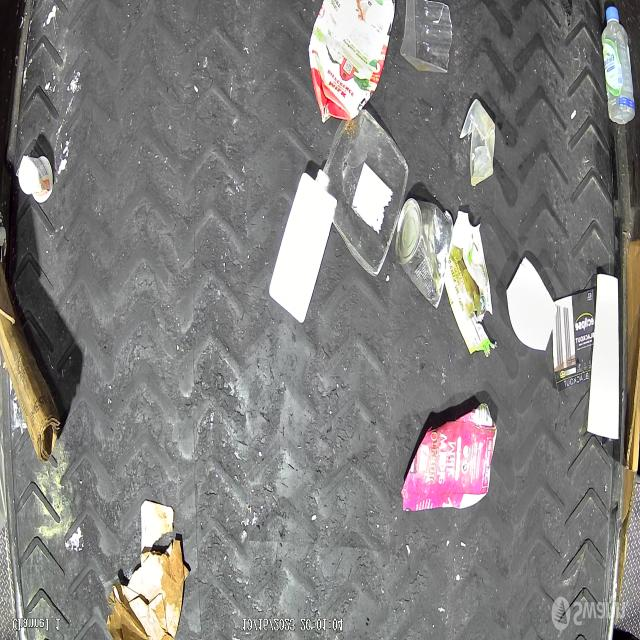can: (395, 199, 454, 309)
milk_jug: (268, 165, 340, 322)
non_white_jug: (310, 0, 398, 130)
plastic_bottle: (601, 5, 636, 127)
